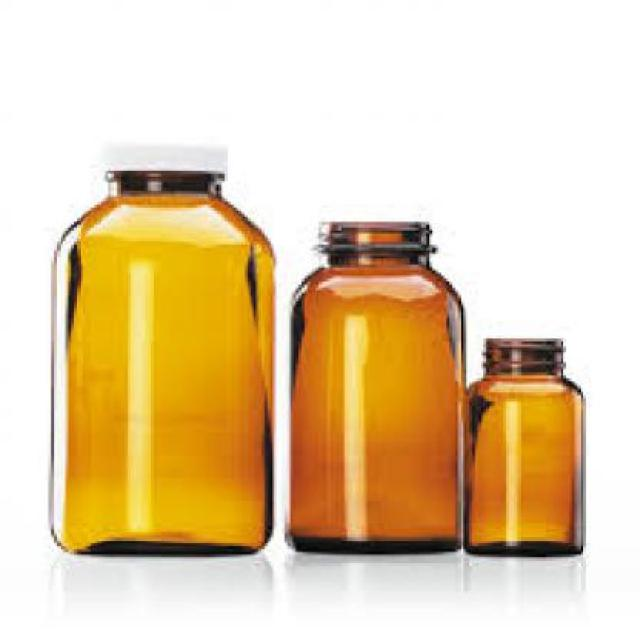kaca: (49, 171, 271, 554), (285, 220, 460, 555), (462, 337, 583, 558)
